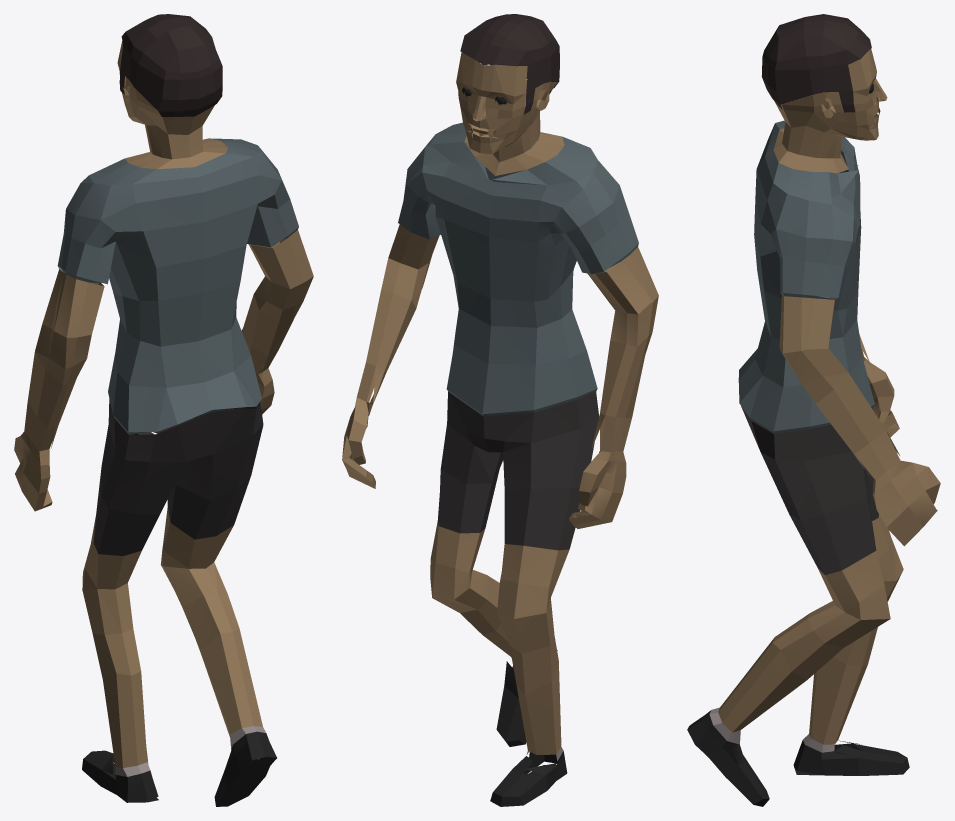
Rendered from person_3_w2.fbx.
The picture shows the model from 3 angles, left to right: view 1: azimuth 30°, elevation 25°; view 2: azimuth 150°, elevation 25°; view 3: azimuth 270°, elevation 25°; orthographic projection. The views are drawn at different scales.
Parts seen in each view (by area): view 1: BaseHuman; view 2: BaseHuman; view 3: BaseHuman.
Part boxes in pixels (box(x1,y1,x2,y2)): BaseHuman: box(14, 14, 313, 806); BaseHuman: box(342, 14, 658, 806); BaseHuman: box(687, 14, 940, 806).
Bounding box in the file's own units: 0.362 × 1 × 0.2973.
